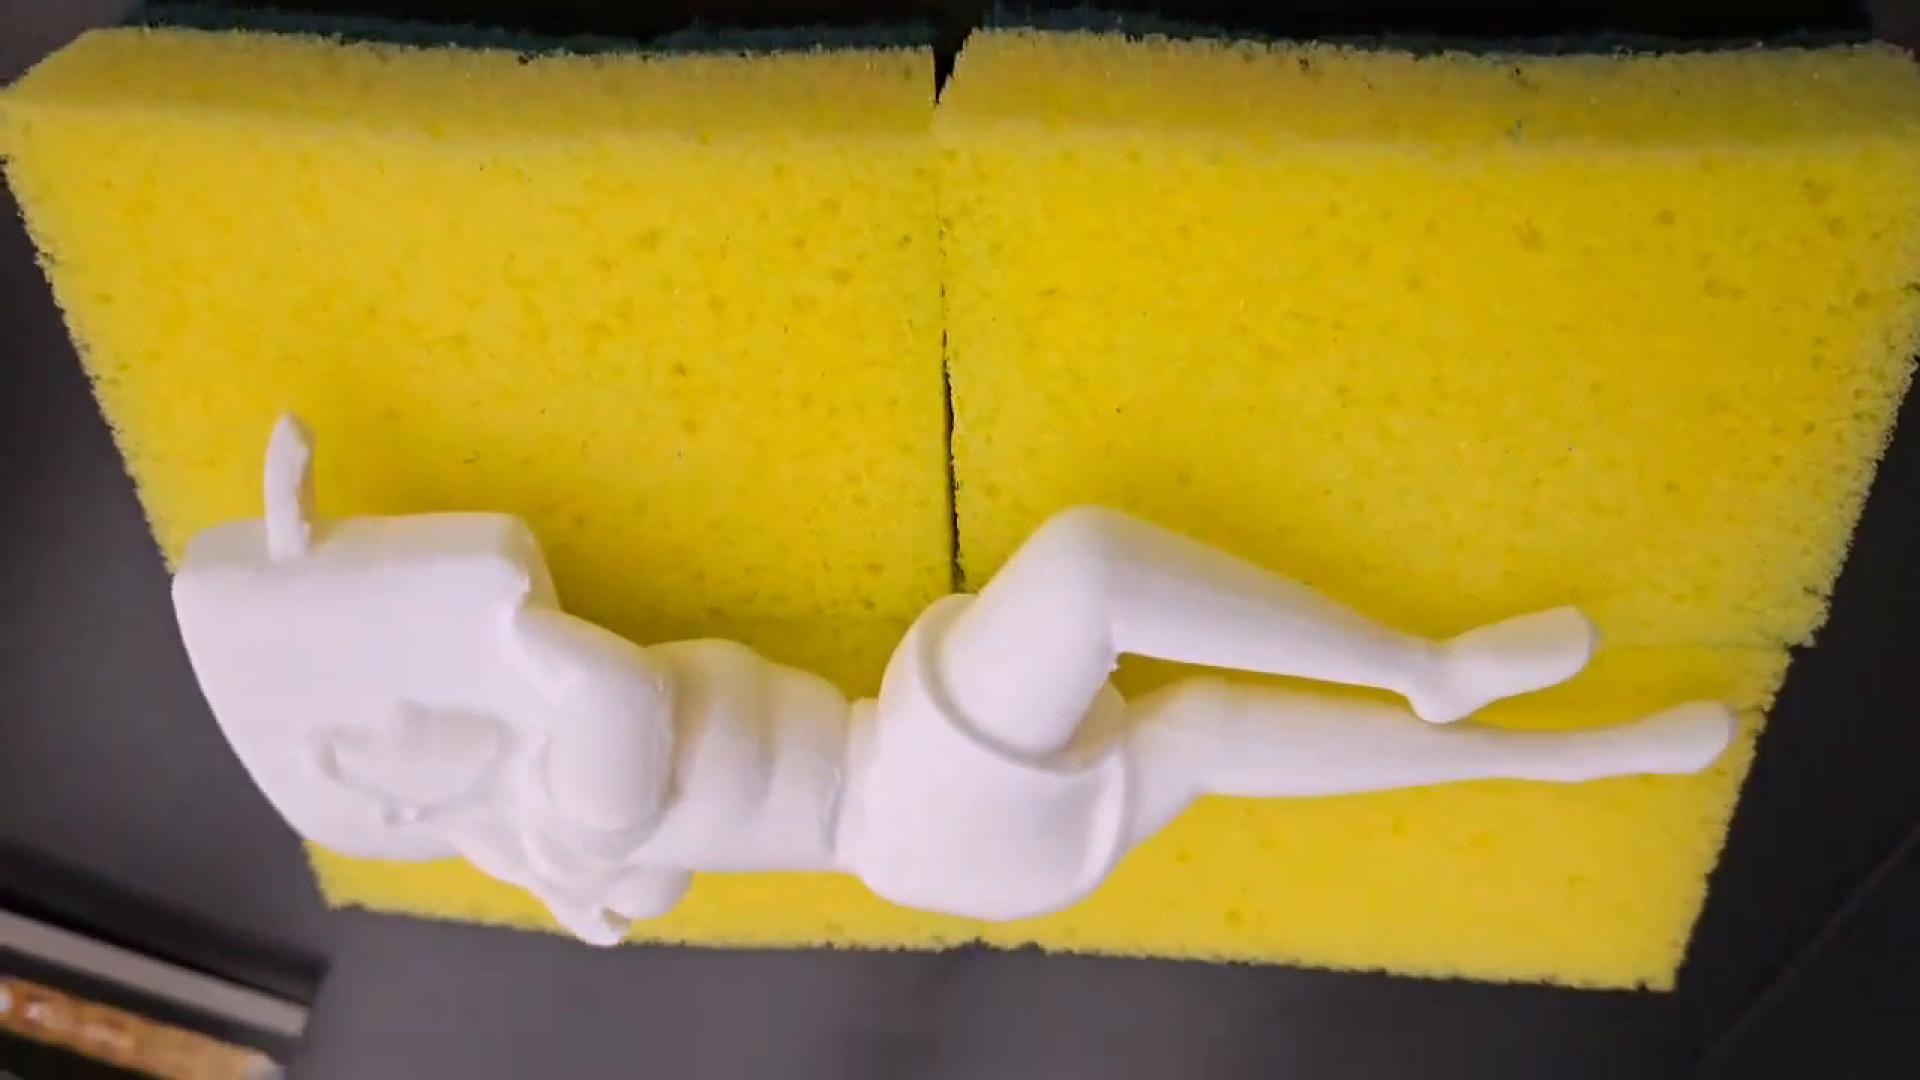Good-style: (177, 415, 1731, 947)
